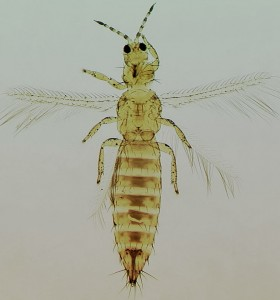Thripidae: (1, 4, 280, 295)
